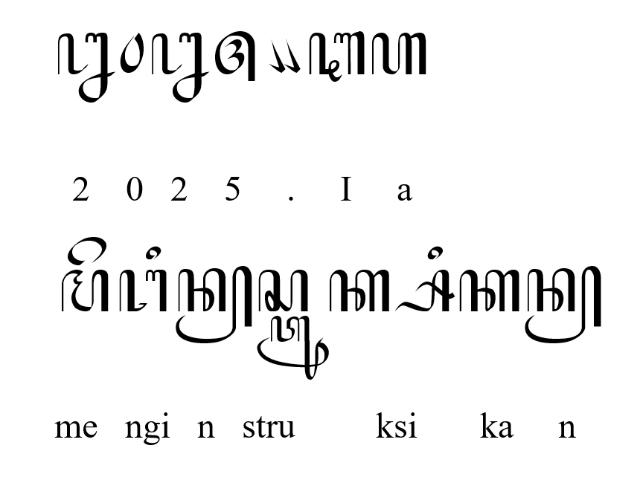-n: (524, 265, 602, 345), (174, 266, 252, 345)
0: (120, 32, 144, 74)
5: (214, 30, 256, 82)
I: (309, 31, 366, 83)
_s: (394, 270, 456, 312)
e: (67, 236, 107, 266)
h: (370, 33, 426, 75)
i: (426, 246, 444, 262), (145, 246, 161, 260)
k: (328, 270, 390, 312), (458, 270, 520, 312)
kom: (283, 36, 301, 74), (268, 37, 286, 73)
m: (61, 270, 109, 312)
nga: (119, 270, 168, 312)
ngna: (55, 32, 115, 102), (150, 32, 208, 104)
s: (258, 270, 310, 312)
tru: (256, 315, 330, 381)
